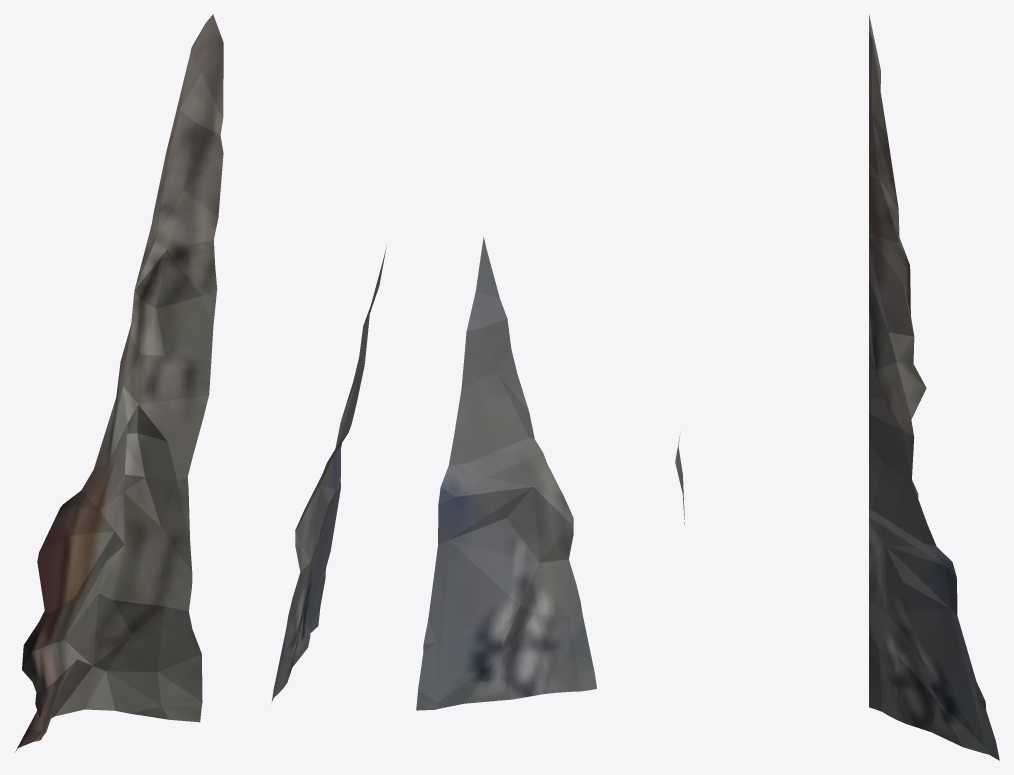
3 views of the same model, side by side, from view 1: azimuth 30°, elevation 25°; view 2: azimuth 150°, elevation 25°; view 3: azimuth 270°, elevation 25° (orthographic). The views are drawn at different scales.
Bounding box in the file's own units: 0.2593 × 0.4779 × 0.0849.
Materials: 1 (1 with a texture image).
